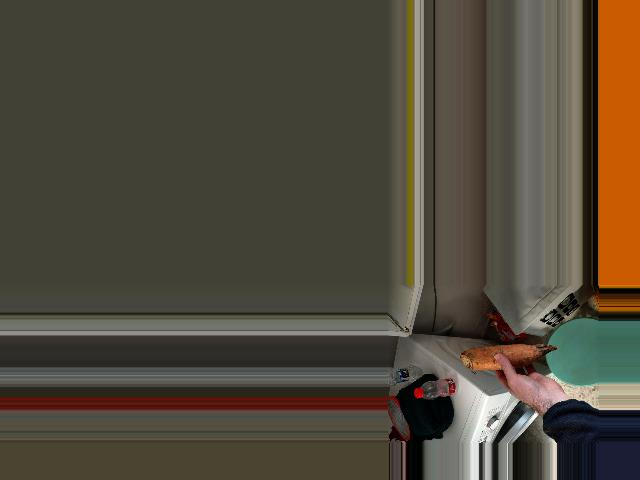sweet_potato: (455, 337, 558, 377)
